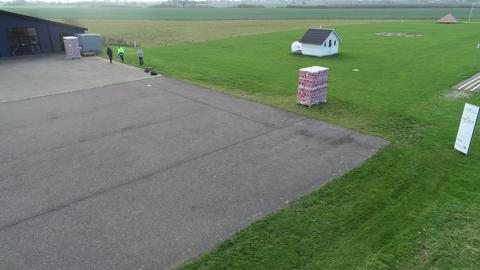RockwoolPallet: (62, 36, 81, 60)
